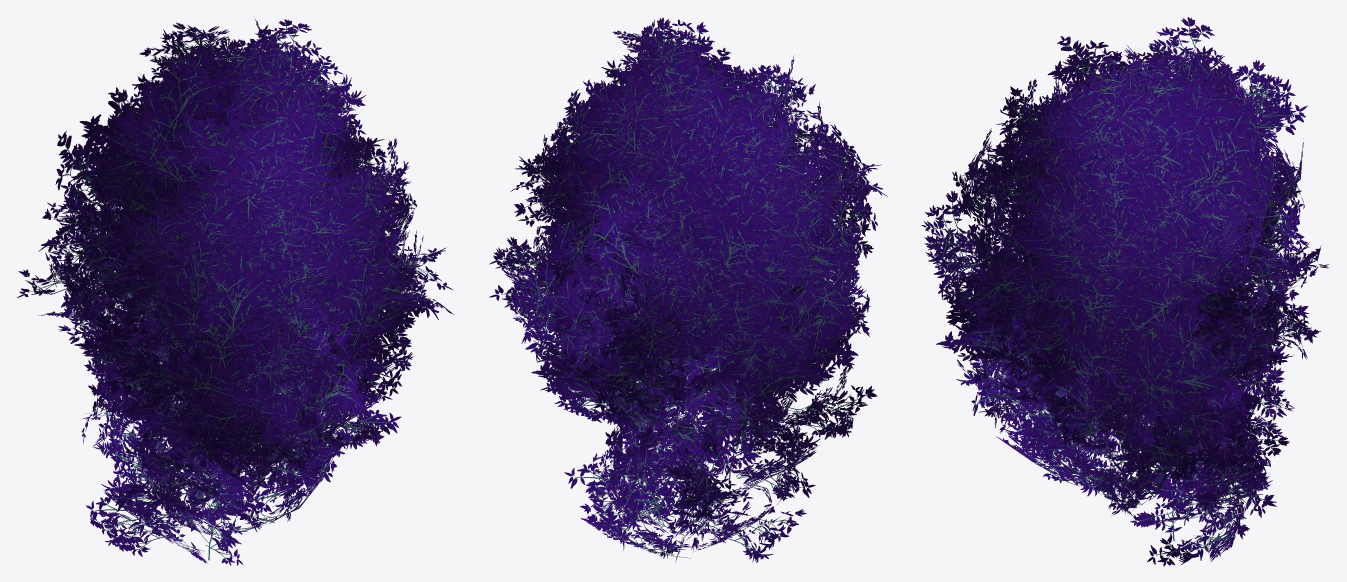
3 views of the same model, side by side, from view 1: azimuth 30°, elevation 25°; view 2: azimuth 150°, elevation 25°; view 3: azimuth 270°, elevation 25° (orthographic). The views are drawn at different scales.
Parts seen in each view (by area): view 1: SM_GF_Ash_Canopy_03_LOD0; view 2: SM_GF_Ash_Canopy_03_LOD0; view 3: SM_GF_Ash_Canopy_03_LOD0.
Boxes of the visible parts, bbox=[...] form: SM_GF_Ash_Canopy_03_LOD0: bbox=[17, 17, 453, 565]; SM_GF_Ash_Canopy_03_LOD0: bbox=[489, 17, 887, 562]; SM_GF_Ash_Canopy_03_LOD0: bbox=[921, 17, 1328, 566].
Bounding box in the file's own units: 8.71 × 11.78 × 8.16.
1 material, 1 textured.
